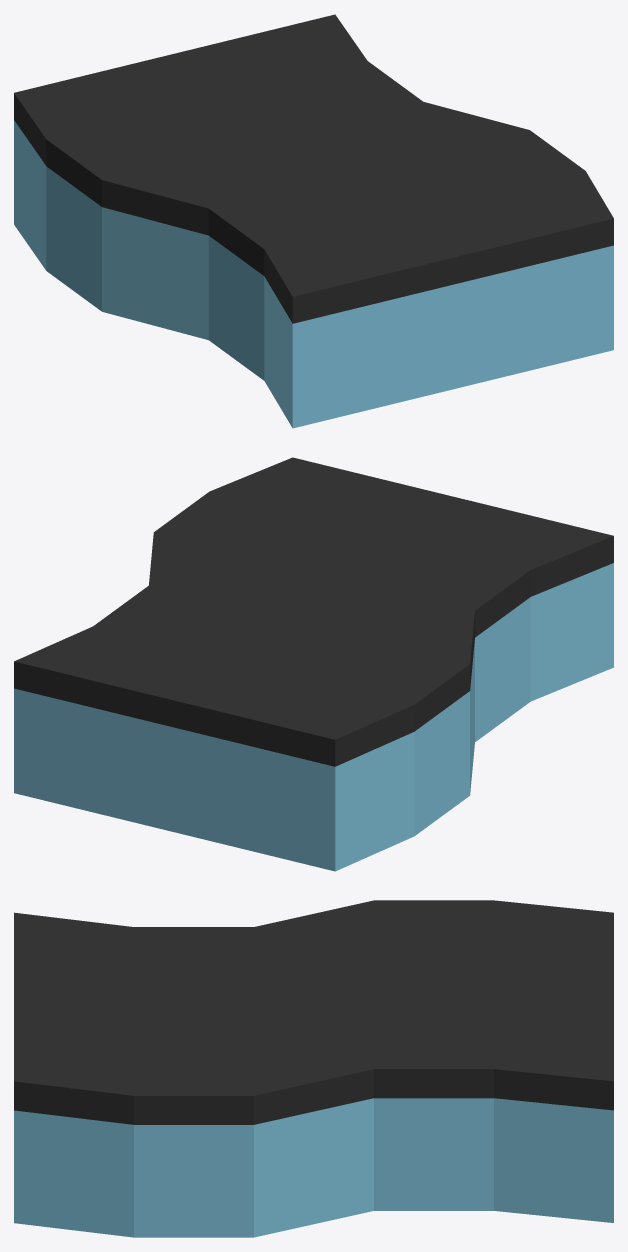
The picture shows the model from 3 angles, top to bottom: view 1: azimuth 30°, elevation 25°; view 2: azimuth 150°, elevation 25°; view 3: azimuth 270°, elevation 25°; orthographic projection. The views are drawn at different scales.
Visible parts, largest first — view 1: Sponge; view 2: Sponge; view 3: Sponge.
Part boxes in pixels (left/top/right/bottom): Sponge: left=14, top=14, right=613, bottom=428; Sponge: left=14, top=457, right=613, bottom=871; Sponge: left=14, top=900, right=613, bottom=1237.
Size of the model in its own units: 16.19 by 5.47 by 21.
1 material, 1 textured.
